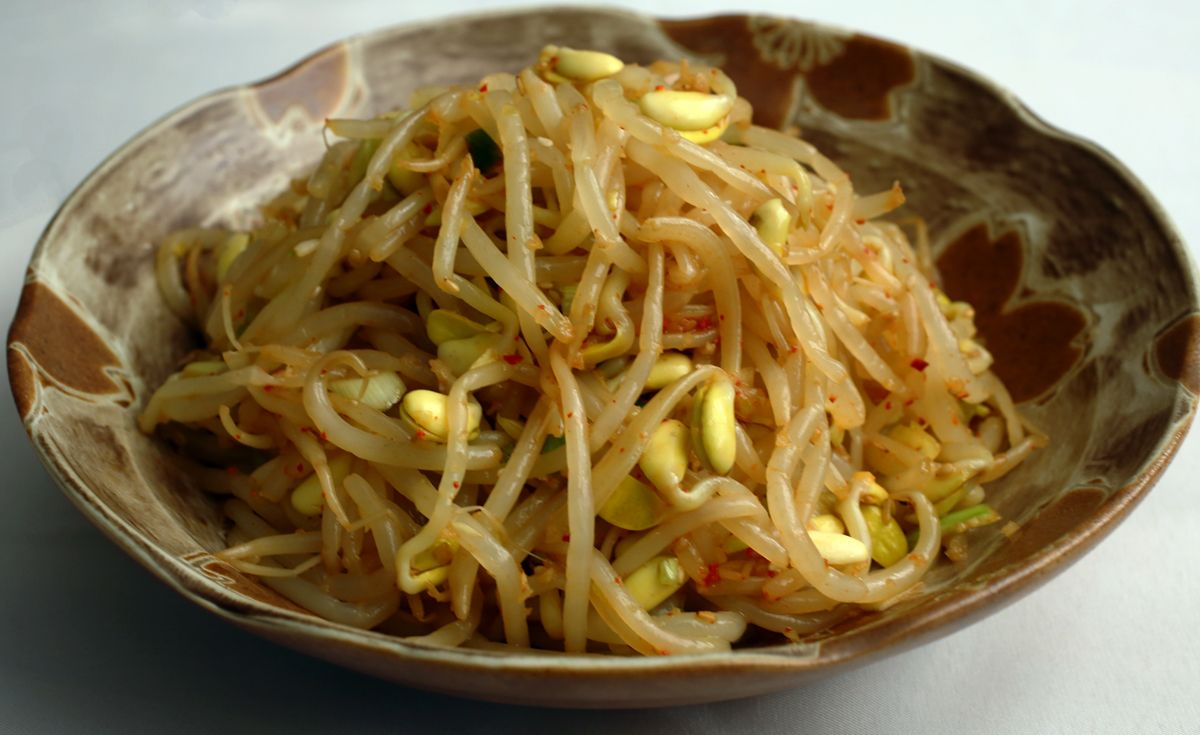mung_bean_sprouts: (136, 47, 1013, 658)
